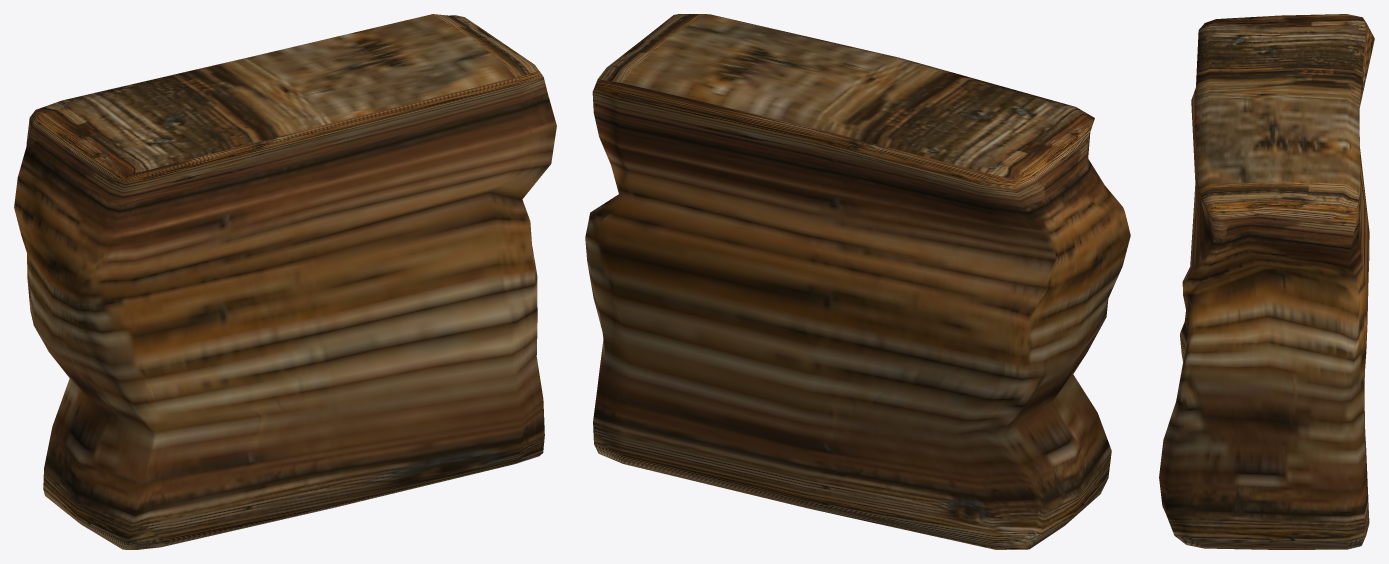
File: Button_02x02.glb
3 renders of one model, left to right at view 1: azimuth 30°, elevation 25°; view 2: azimuth 150°, elevation 25°; view 3: azimuth 270°, elevation 25°, orthographic. The views are drawn at different scales.
Parts seen in each view (by area): view 1: 0.2х0.2; view 2: 0.2х0.2; view 3: 0.2х0.2.
Part boxes in pixels (box(x1,y1,x2,y2)): 0.2х0.2: box(14, 14, 556, 549); 0.2х0.2: box(585, 14, 1130, 549); 0.2х0.2: box(1159, 14, 1374, 549).
Size of the model in its own units: 0.5079 by 0.4074 by 0.2199.
Materials: 1 (1 with a texture image).
